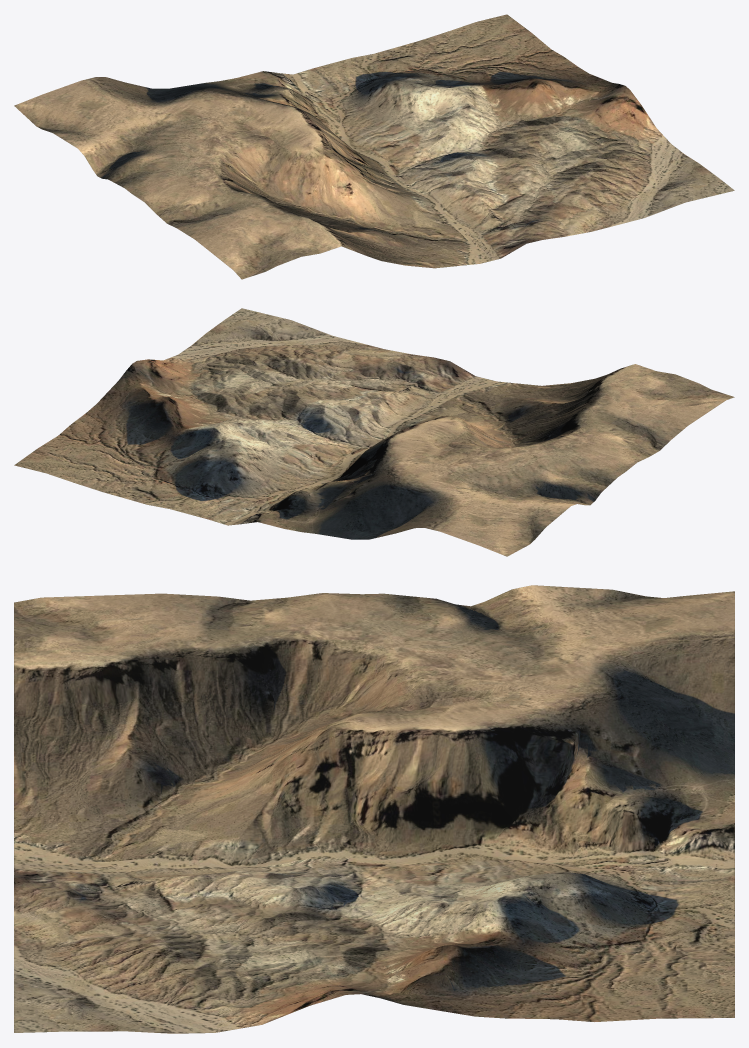
Rendered from blackMesa.glb.
The picture shows the model from 3 angles, top to bottom: view 1: azimuth 30°, elevation 25°; view 2: azimuth 150°, elevation 25°; view 3: azimuth 270°, elevation 25°; orthographic projection. The views are drawn at different scales.
Parts seen in each view (by area): view 1: EXPORT_GOOGLE_SAT_WM; view 2: EXPORT_GOOGLE_SAT_WM; view 3: EXPORT_GOOGLE_SAT_WM.
Boxes of the visible parts, x1,y1,x2,y2 form: EXPORT_GOOGLE_SAT_WM: (14, 14, 734, 279); EXPORT_GOOGLE_SAT_WM: (14, 308, 734, 556); EXPORT_GOOGLE_SAT_WM: (14, 585, 734, 1033).
Bounding box in the file's own units: 306 × 35.08 × 245.
Materials: 1 (1 with a texture image).
